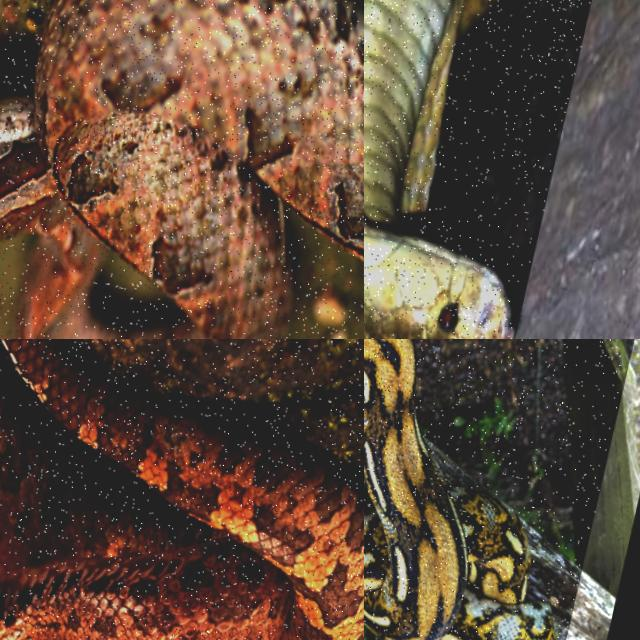Calloselasma rhodostoma: (0, 0, 363, 338)
Malayopython reticulatus: (364, 339, 556, 639)
Naja kaouthia: (364, 0, 513, 338)
Ovophis monticola: (0, 339, 363, 639)
